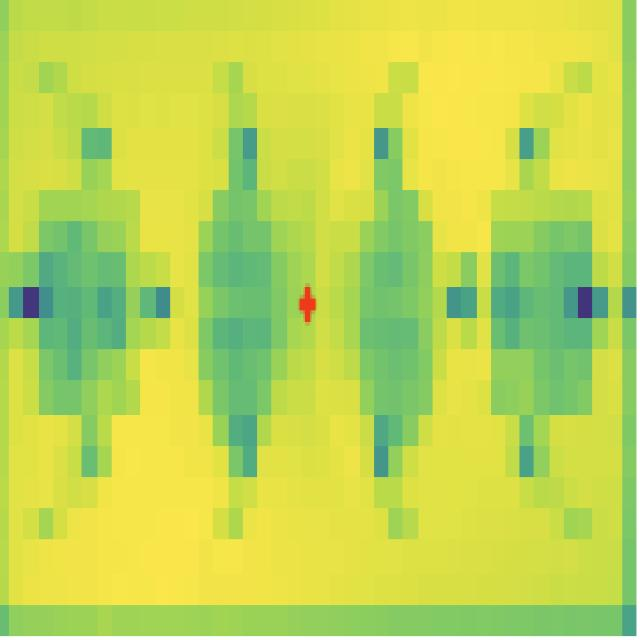Concrete: (39, 190, 139, 416)
Glass: (490, 192, 592, 418)
Metal: (197, 192, 288, 446)
Wood: (350, 196, 431, 460)
